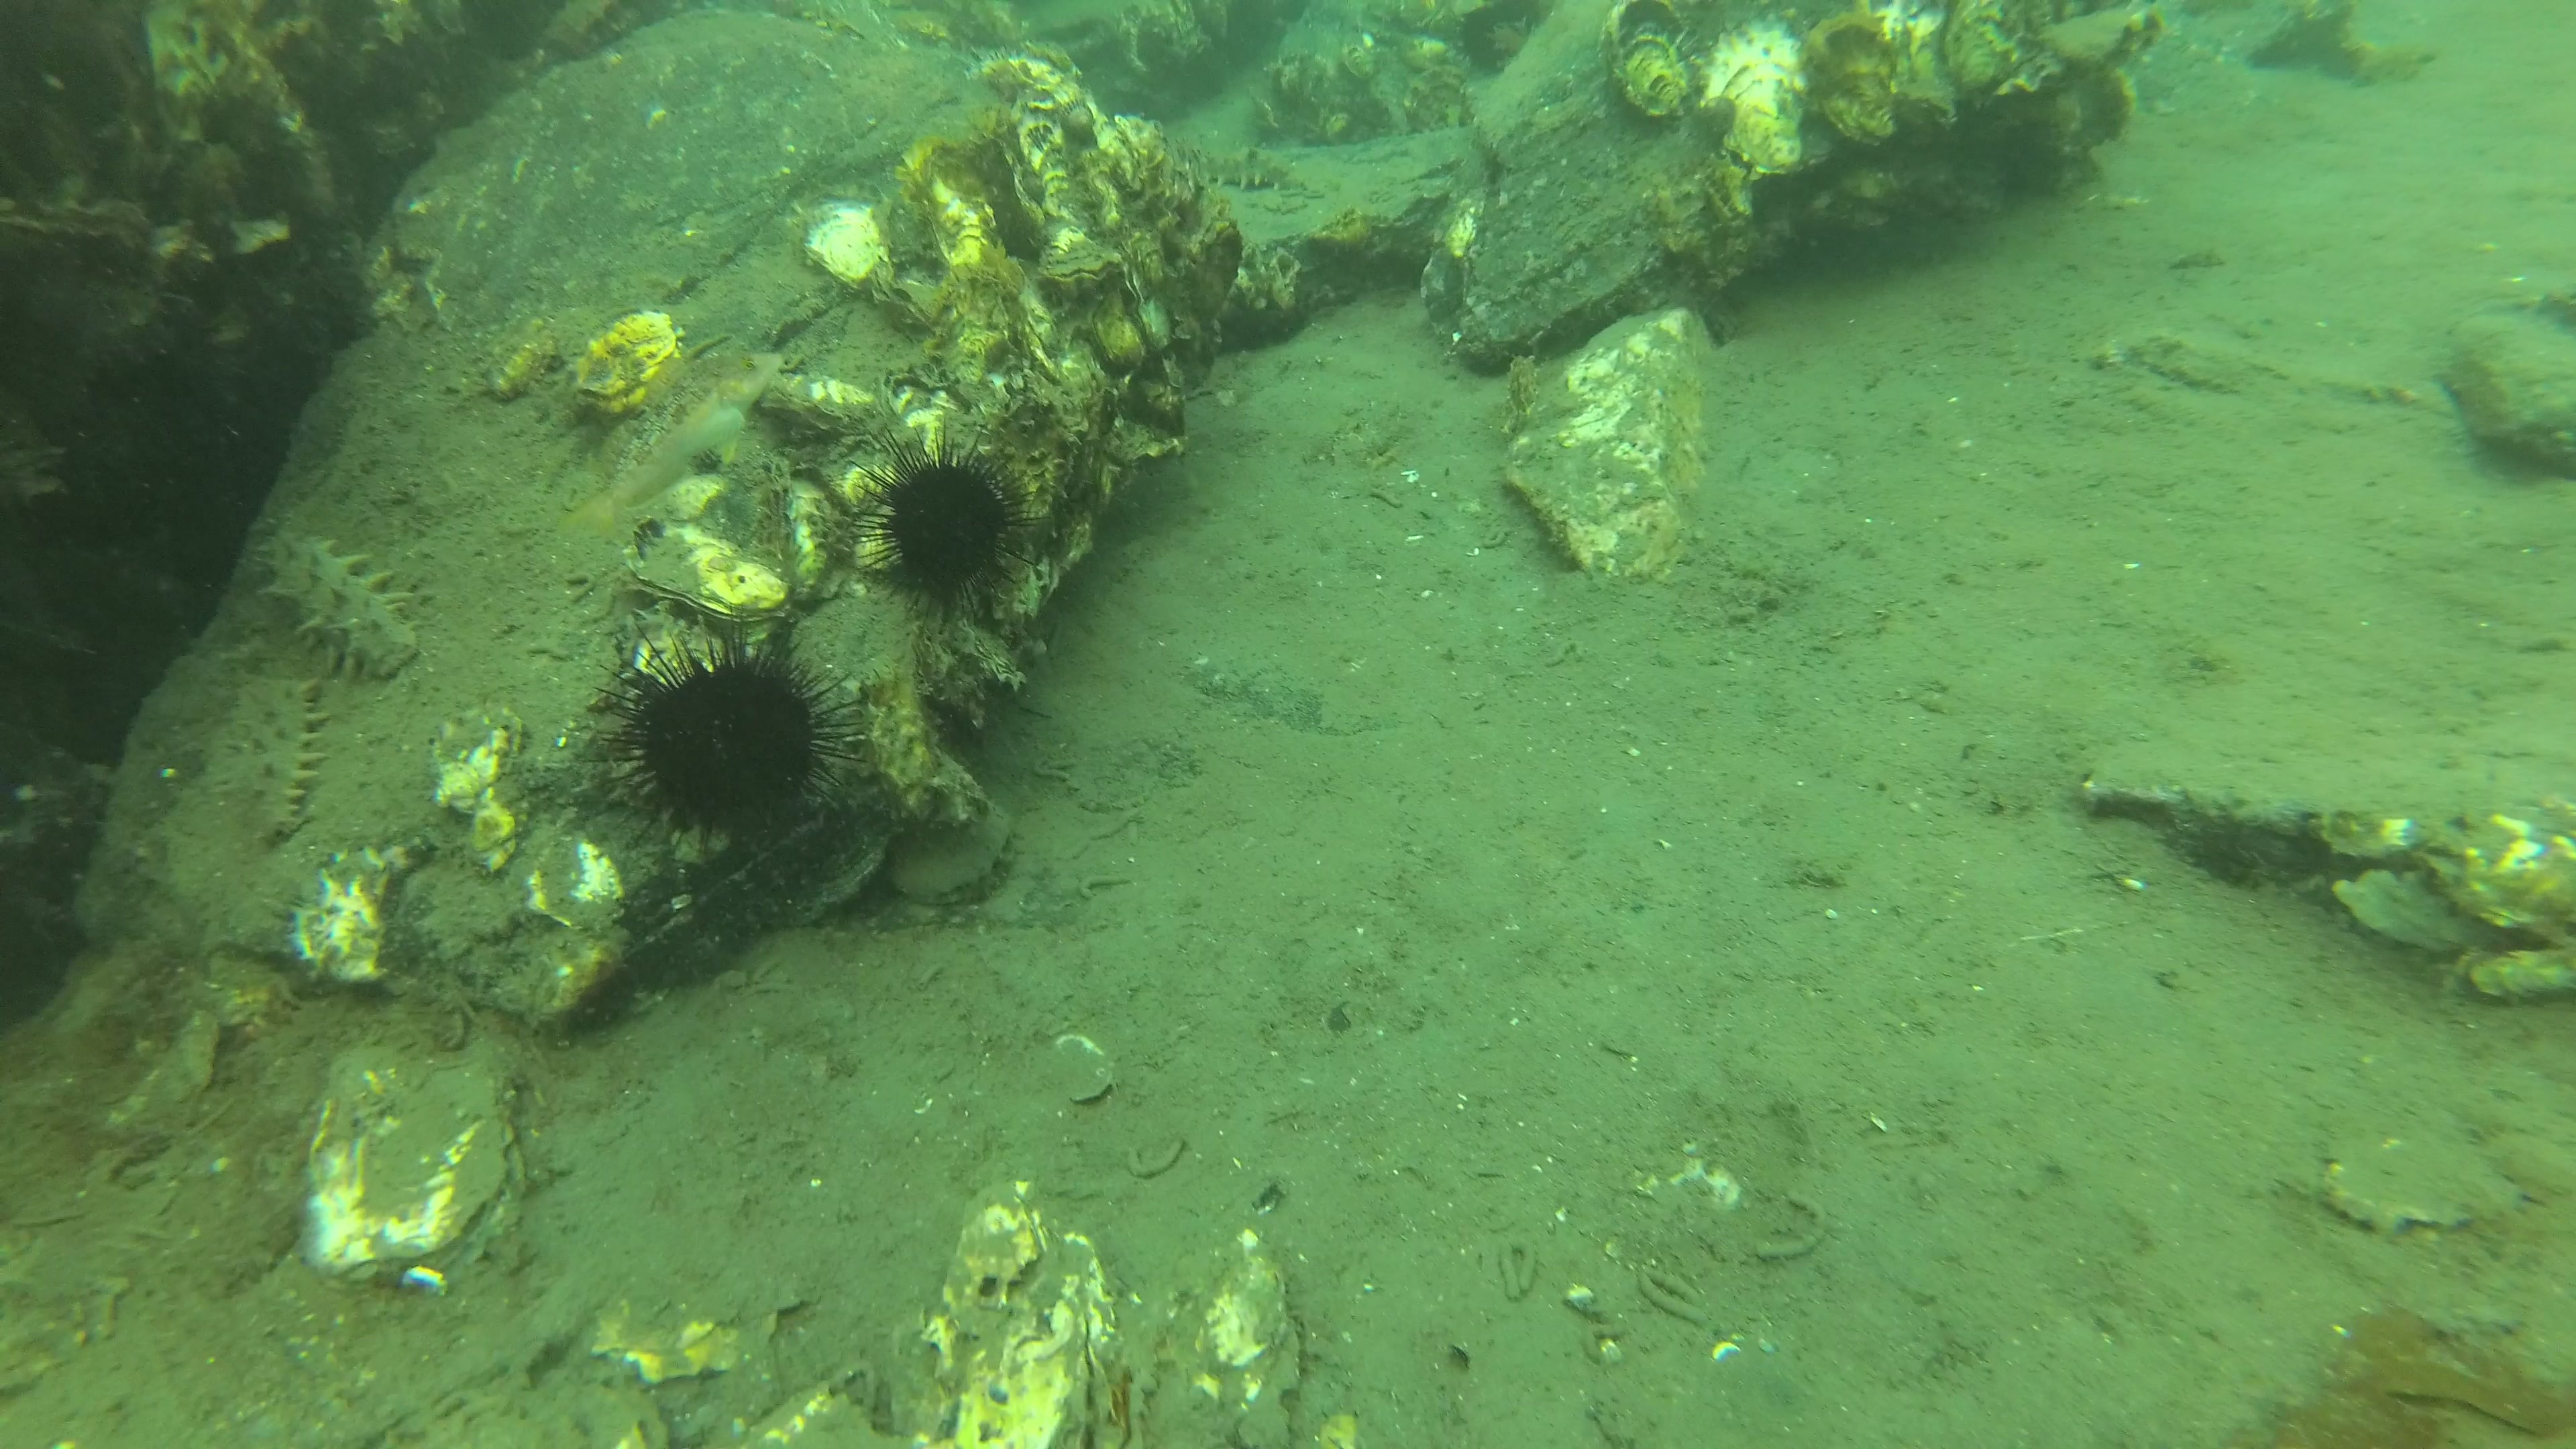echinus: (580, 623, 860, 837), (846, 421, 1039, 616)
holothurian: (242, 524, 423, 686), (209, 669, 336, 856), (1171, 134, 1299, 196)
